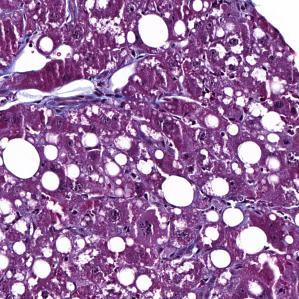fibrosis: (46, 78, 118, 119)
